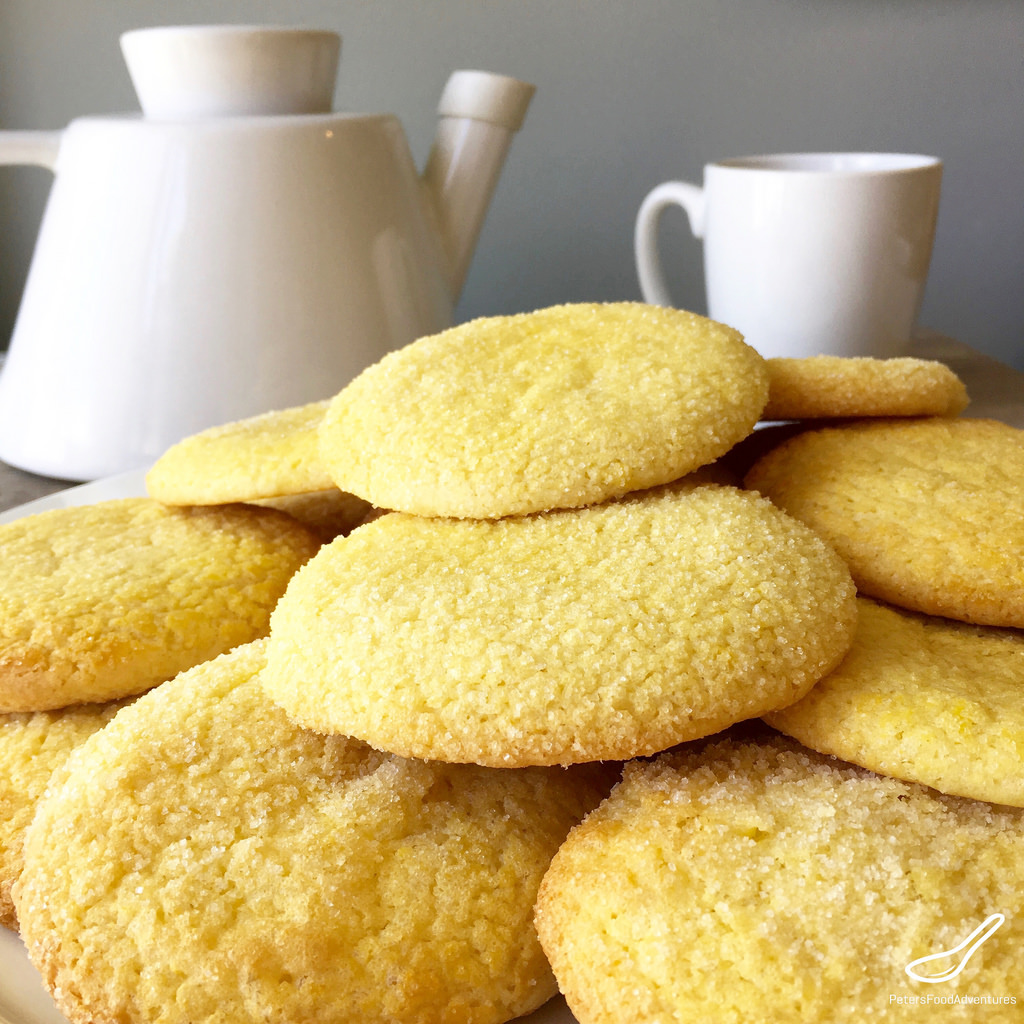slice of bread: (365, 330, 755, 463)
